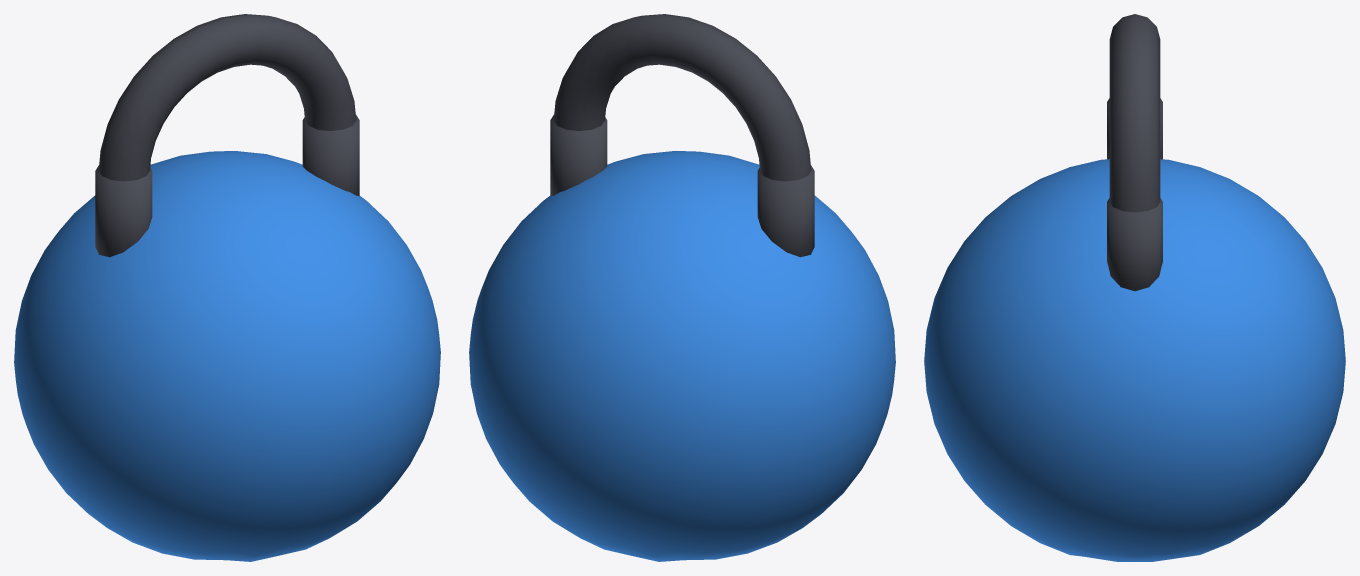
The model's file is Kettlebell.fbx.
The picture shows the model from 3 angles, left to right: view 1: azimuth 30°, elevation 25°; view 2: azimuth 150°, elevation 25°; view 3: azimuth 270°, elevation 25°; orthographic projection.
Visible parts, largest first — view 1: Kettlebell_Body, Kettlebell_Iron; view 2: Kettlebell_Body, Kettlebell_Iron; view 3: Kettlebell_Body, Kettlebell_Iron.
Part boxes in pixels (bbox=[...]): Kettlebell_Body: bbox=[14, 151, 440, 561]; Kettlebell_Iron: bbox=[95, 14, 359, 257]; Kettlebell_Body: bbox=[469, 151, 895, 561]; Kettlebell_Iron: bbox=[550, 14, 814, 257]; Kettlebell_Body: bbox=[924, 159, 1345, 561]; Kettlebell_Iron: bbox=[1107, 14, 1162, 291].
Bounding box in the file's own units: 150 × 192 × 150.
